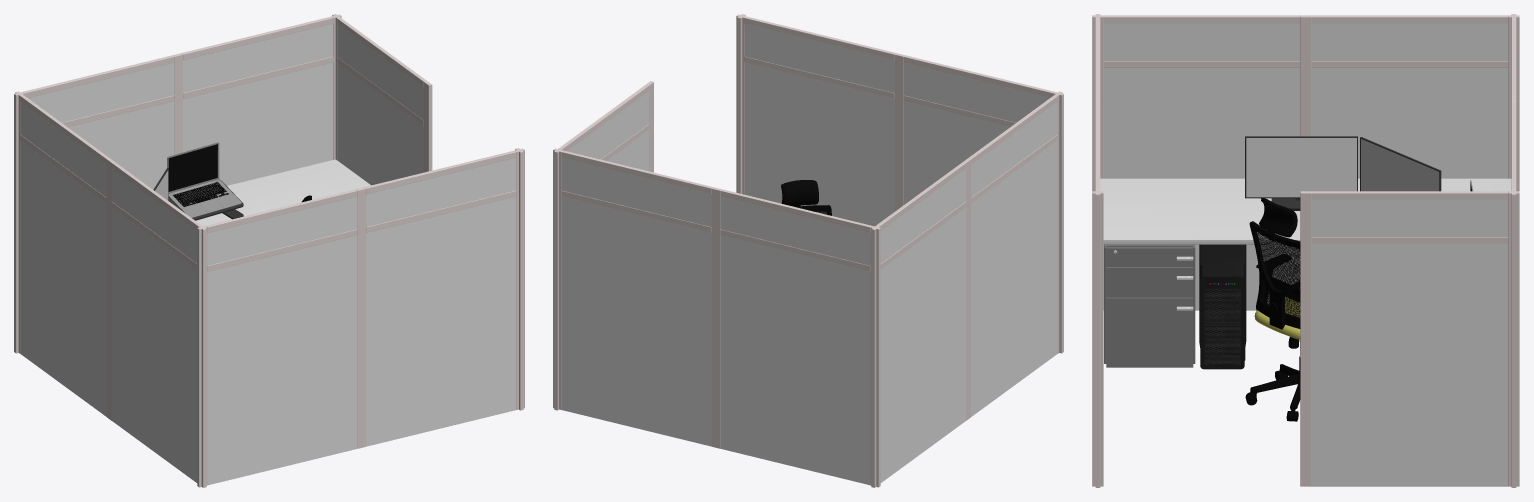
The picture shows the model from 3 angles, left to right: view 1: azimuth 30°, elevation 25°; view 2: azimuth 150°, elevation 25°; view 3: azimuth 270°, elevation 25°; orthographic projection. The views are drawn at different scales.
Parts seen in each view (by area): view 1: Box_Walls, Desk, screen, Laptop, keyboard; view 2: Box_Walls, chair_62_01; view 3: Box_Walls, Desk, Drawer2, Screen2, chair_62_01, Computer, Screen1.
Part boxes in pixels (x1=…): Box_Walls: x1=14, y1=14, x2=524, y2=487; Desk: x1=195, y1=159, x2=370, y2=226; screen: x1=167, y1=142, x2=219, y2=194; Laptop: x1=168, y1=180, x2=241, y2=217; keyboard: x1=173, y1=182, x2=228, y2=206; Box_Walls: x1=553, y1=14, x2=1063, y2=487; chair_62_01: x1=781, y1=180, x2=831, y2=215; Box_Walls: x1=1092, y1=14, x2=1519, y2=487; Desk: x1=1100, y1=178, x2=1511, y2=244; Drawer2: x1=1104, y1=244, x2=1195, y2=367; Screen2: x1=1245, y1=136, x2=1357, y2=210; chair_62_01: x1=1245, y1=198, x2=1300, y2=421; Computer: x1=1199, y1=244, x2=1246, y2=369; Screen1: x1=1360, y1=137, x2=1441, y2=191.
Size of the model in its own units: 205 by 156 by 205.
Materials: 28 (5 with a texture image).
